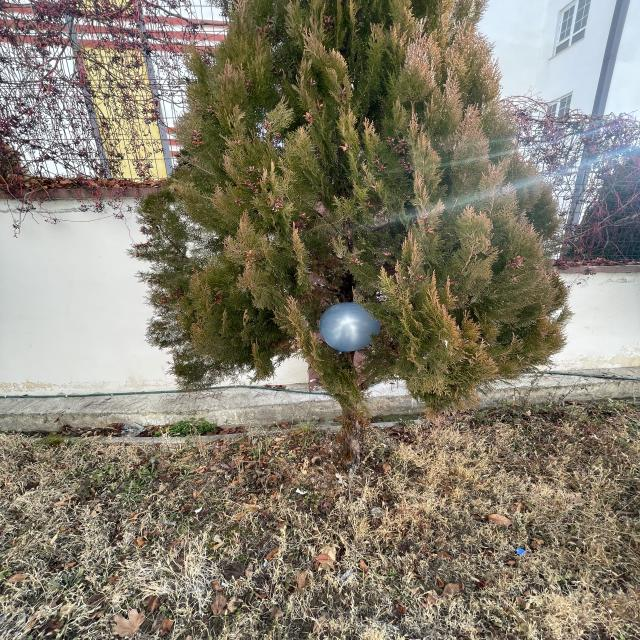balloon: (320, 303, 380, 352)
